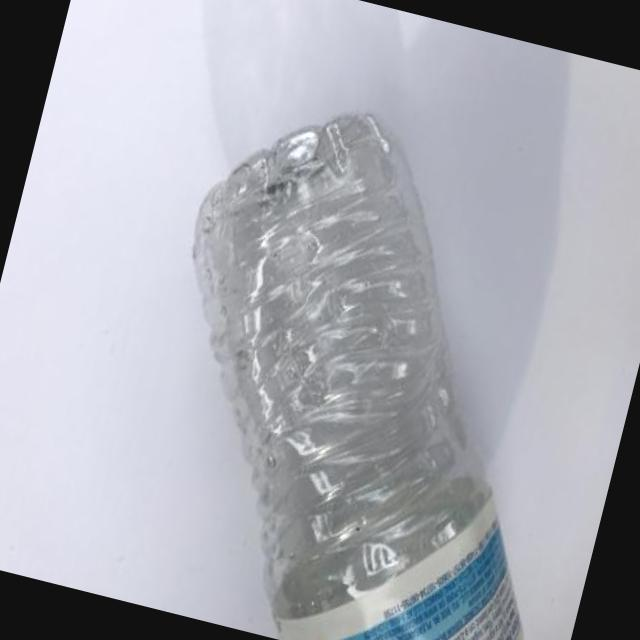Recycle: (102, 79, 640, 640)
